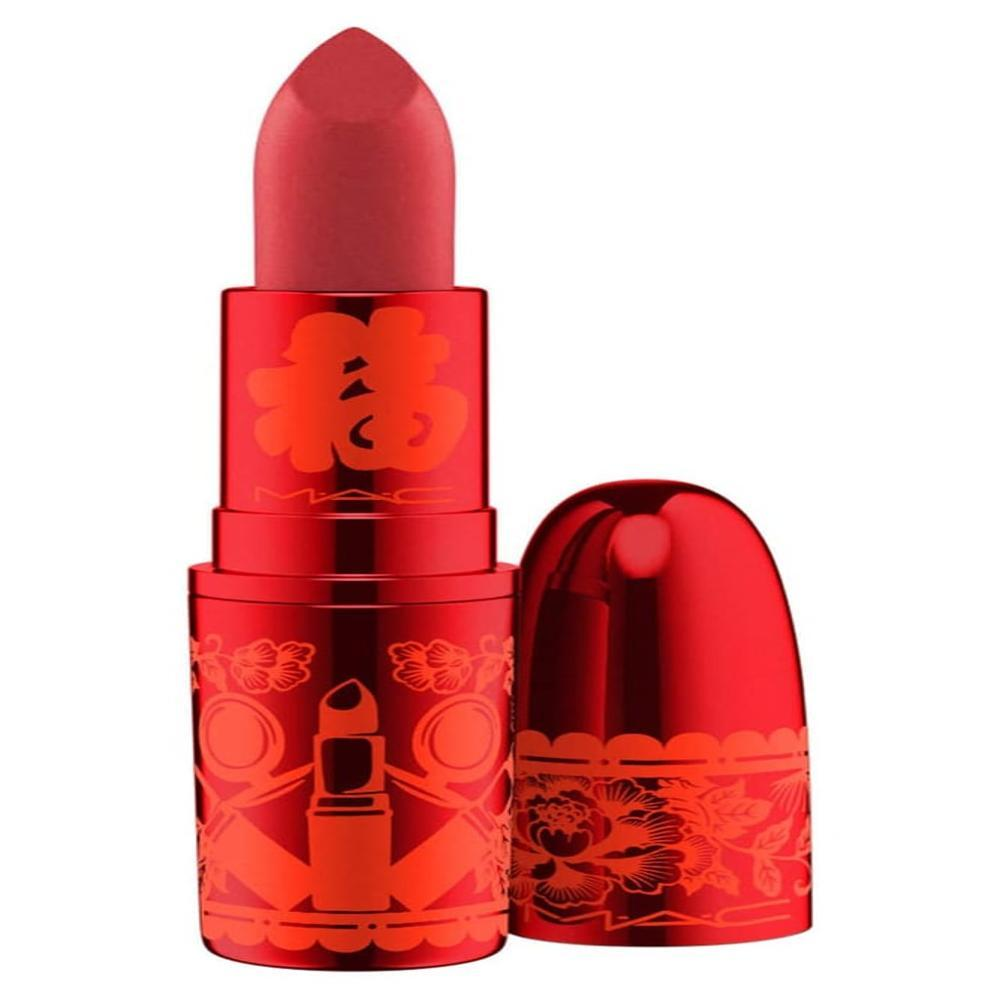lipstick: (174, 31, 543, 966)
